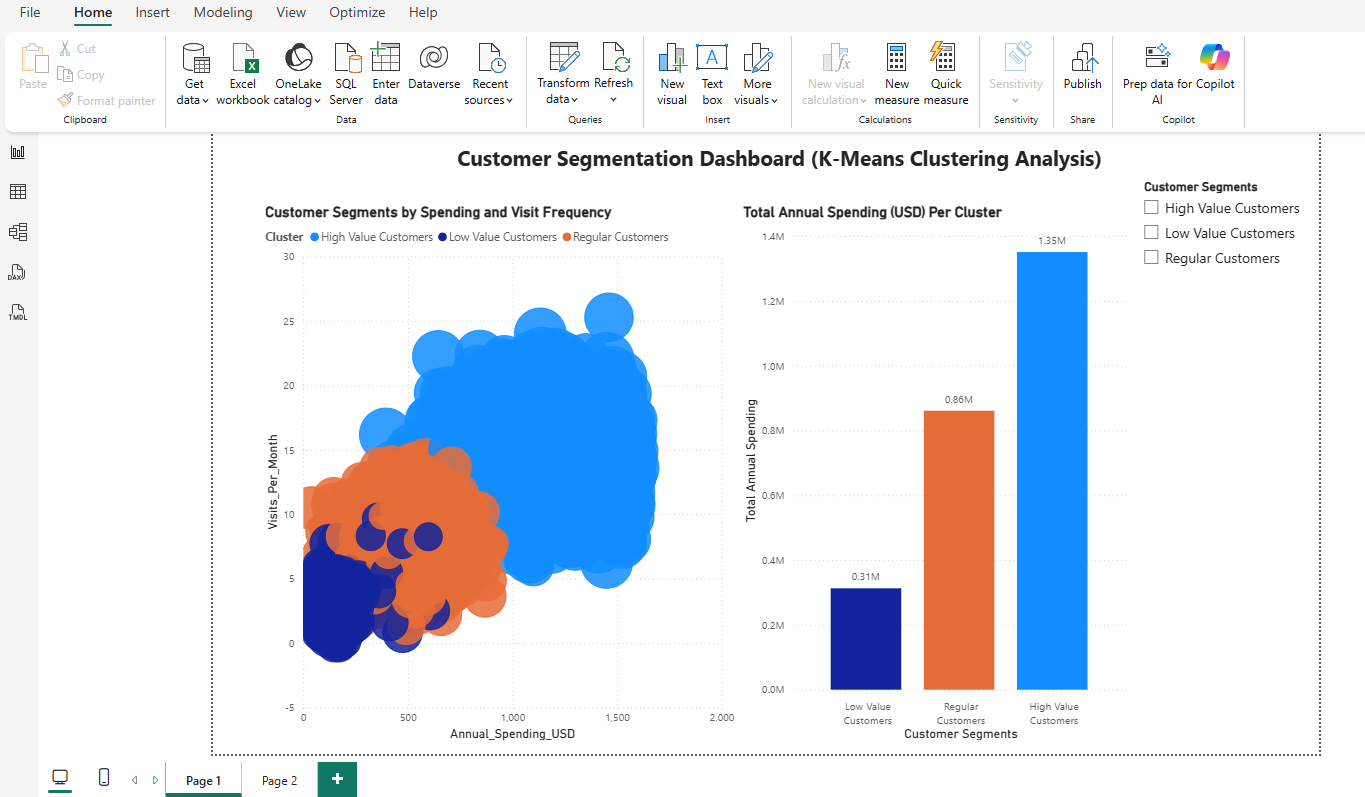

This screenshot's page, from the dashboard's own definition file:
{"tool":"powerbi","page":{"name":"Page 1","canvas":[1280,720],"ordinal":0},"visuals":[{"type":"scatterChart","title":"Customer Segments by Spending and Visit Frequency","fields":{"Series":["customer_segments_results.Cluster"],"X":["customer_segments_results.Annual_Spending_USD"],"Y":["customer_segments_results.Visits_Per_Month"],"Size":["Avg(customer_segments_results.Customer_Loyalty_Score)"]},"box":[55.6,82.2,553.3,627.4],"z":0},{"type":"clusteredColumnChart","title":"Total Annual Spending (USD) Per Cluster","fields":{"Category":["customer_segments_results.Cluster"],"Y":["Sum(customer_segments_results.Annual_Spending_USD)"]},"box":[608.9,82.2,456.1,627.4],"z":1000},{"type":"textbox","box":[277.8,8.1,885.5,41.7],"z":6000},{"type":"slicer","fields":{"Values":["customer_segments_results.Cluster"]},"box":[1065,49.8,215.3,154],"z":7000}]}

Visuals, with their boxes on the page's 1280x720 design canvas (x1, y1, x2, y2). These are canvas units, not pixel positions in the 1365x797 screenshot, which may show the page scaled, cropped or inside an application window:
"Customer Segments by Spending and Visit Frequency" scatterChart: BBox(56, 82, 609, 710)
"Total Annual Spending (USD) Per Cluster" clusteredColumnChart: BBox(609, 82, 1065, 710)
textbox: BBox(278, 8, 1163, 50)
slicer - customer_segments_results.Cluster: BBox(1065, 50, 1280, 204)
